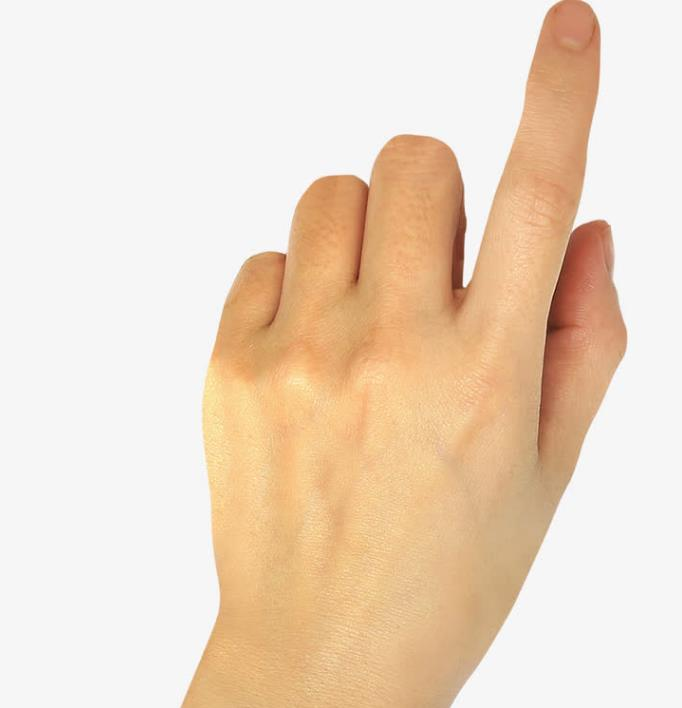up: (197, 1, 638, 653)
